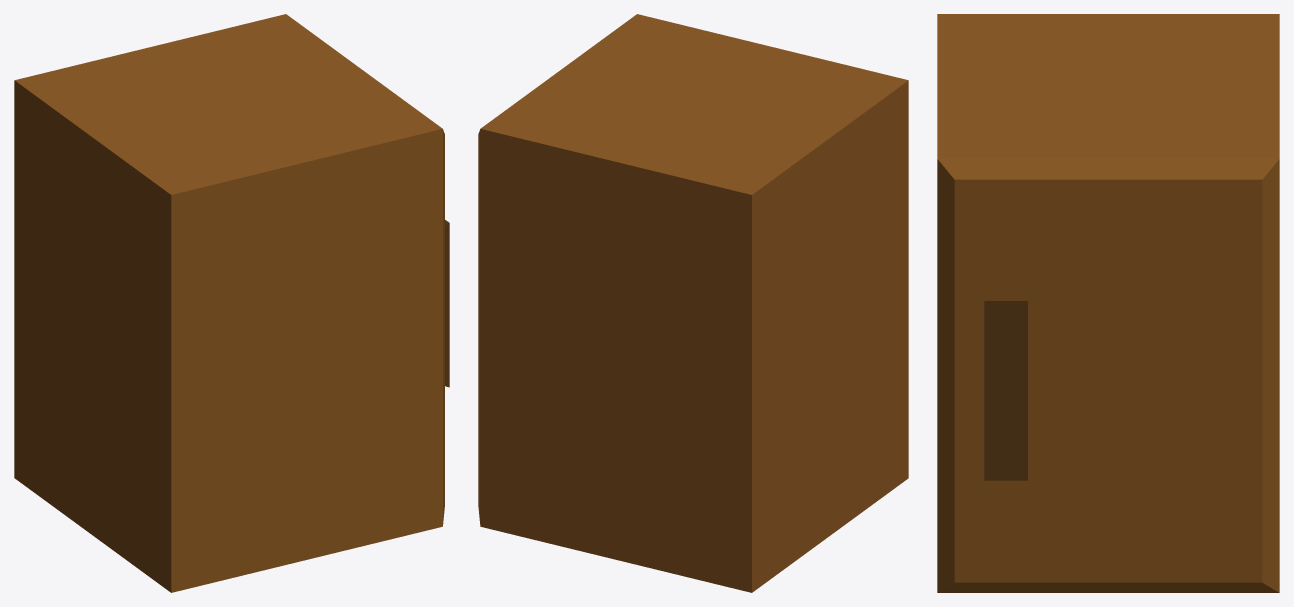
The model's file is cupboard_top.fbx.
The picture shows the model from 3 angles, left to right: view 1: azimuth 30°, elevation 25°; view 2: azimuth 150°, elevation 25°; view 3: azimuth 270°, elevation 25°; orthographic projection. The views are drawn at different scales.
Parts seen in each view (by area): view 1: Cube.010; view 2: Cube.010; view 3: Cube.010.
Boxes of the visible parts, x1,y1,x2,y2 form: Cube.010: (14,14,449,592); Cube.010: (478,14,908,592); Cube.010: (937,14,1279,592).
Size of the model in its own units: 993 by 1260 by 900.
